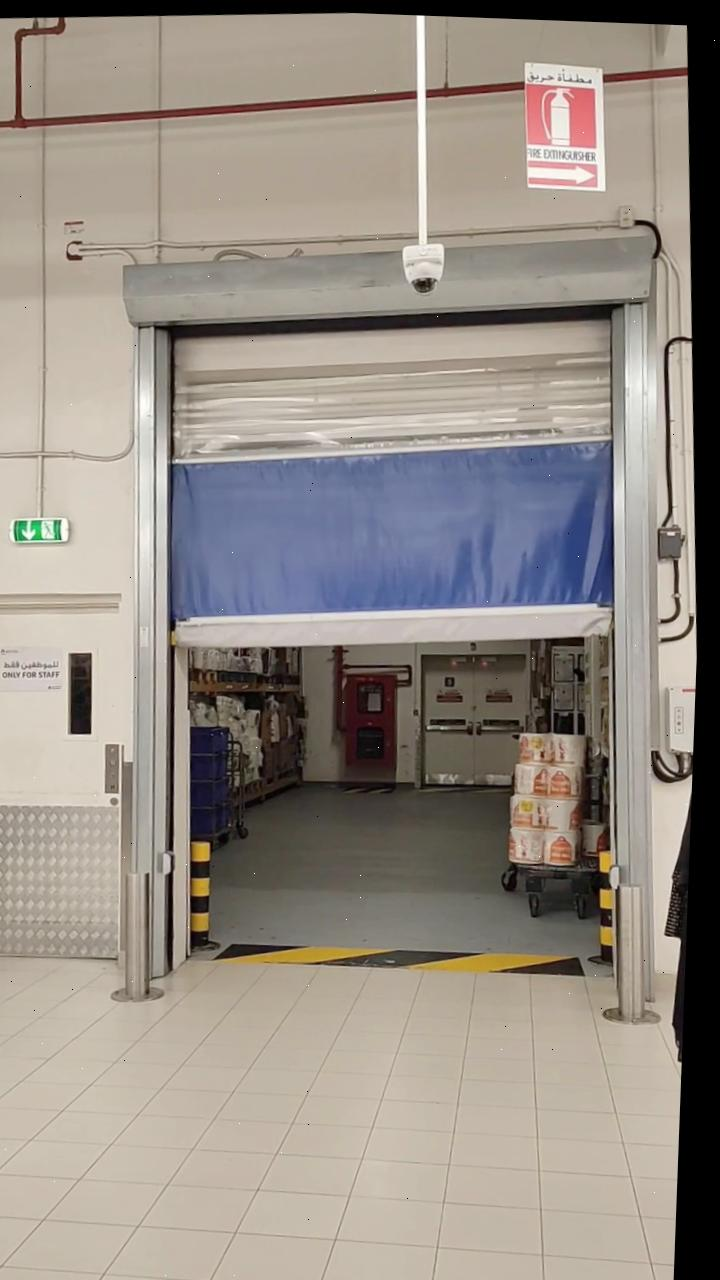Strip: (235, 913, 594, 997)
